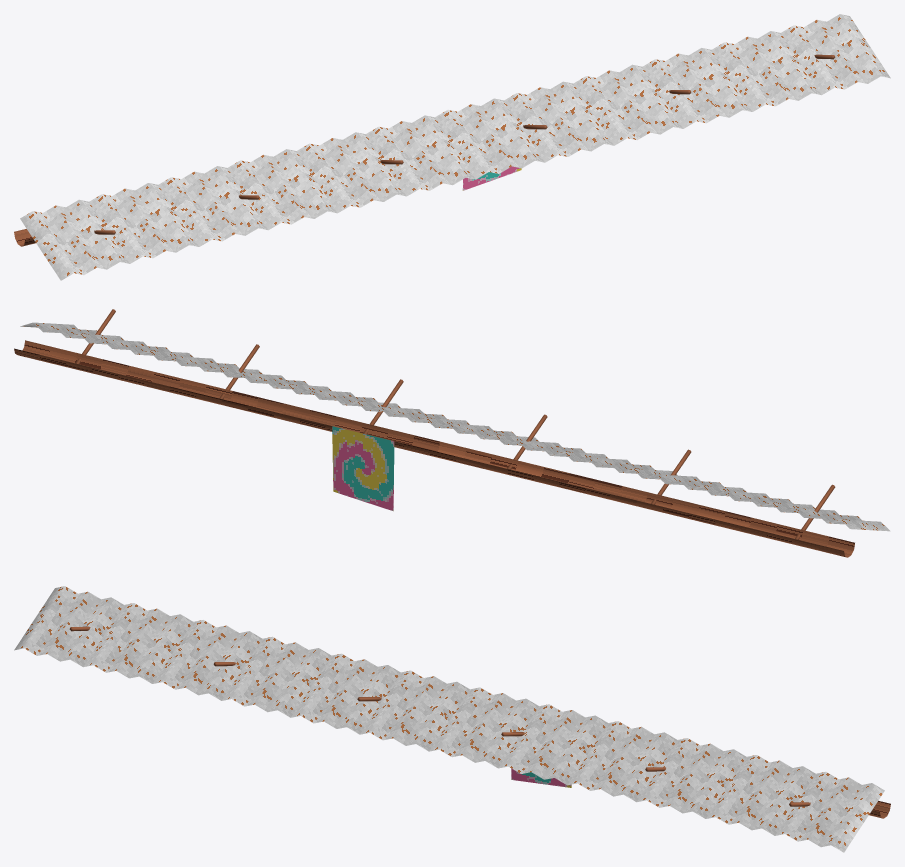
The model's file is s_cube_eave6.glb.
The picture shows the model from 3 angles, top to bottom: view 1: azimuth 30°, elevation 25°; view 2: azimuth 150°, elevation 25°; view 3: azimuth 330°, elevation 25°; orthographic projection.
Visible parts, largest first — view 1: s_cube_eave6_mesh; view 2: s_cube_eave6_mesh; view 3: s_cube_eave6_mesh.
Part boxes in pixels (<box>): s_cube_eave6_mesh: <box>14,14,890,280</box>; s_cube_eave6_mesh: <box>14,309,890,557</box>; s_cube_eave6_mesh: <box>14,586,890,852</box>.
Size of what is drawn, in the model's own units: 6 by 0.6418 by 0.6256.
3 materials, 3 textured.
